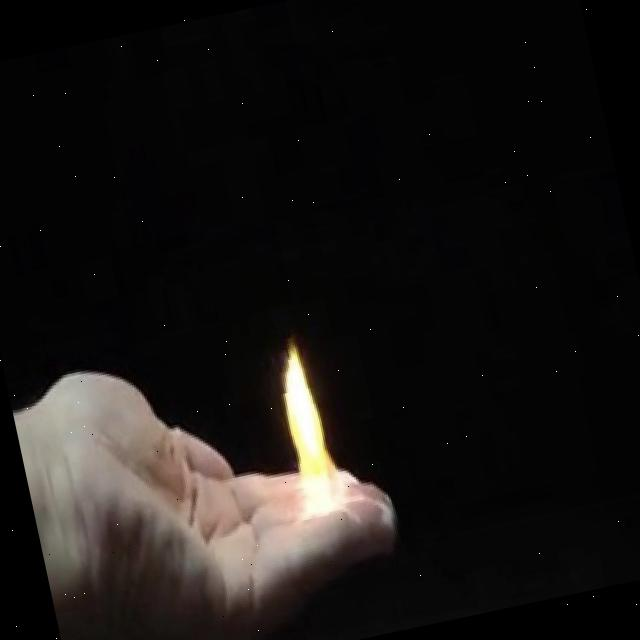fire: (254, 300, 357, 539)
